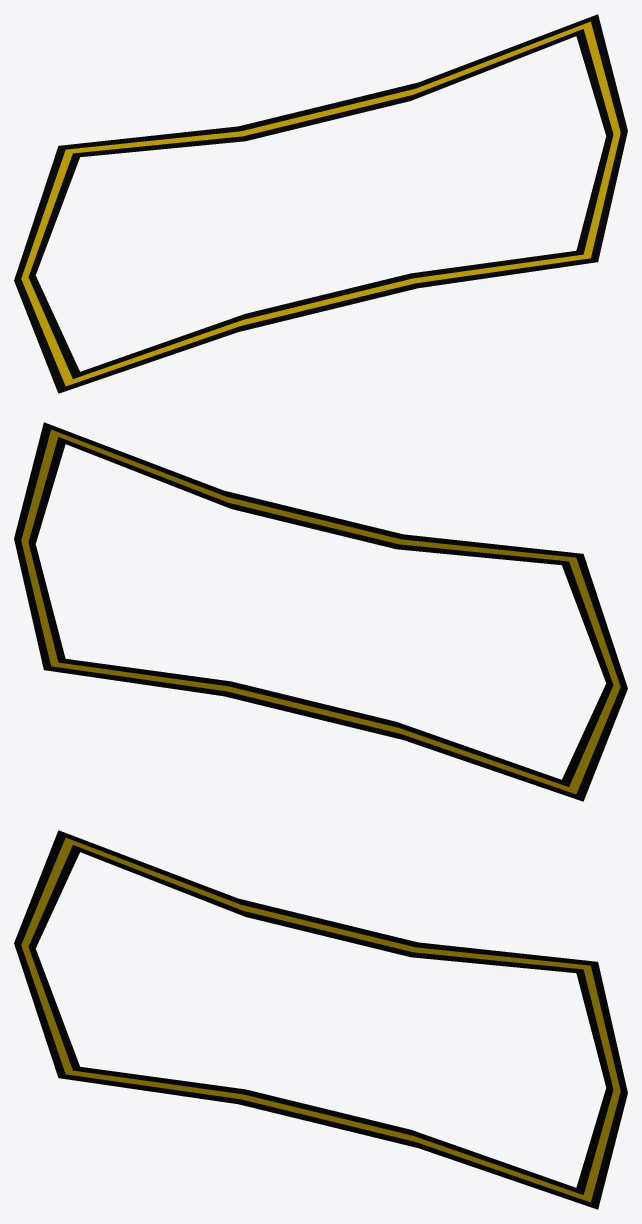
Rendered from SM_InfoMarkerBorder.fbx.
The picture shows the model from 3 angles, top to bottom: view 1: azimuth 30°, elevation 25°; view 2: azimuth 150°, elevation 25°; view 3: azimuth 330°, elevation 25°; orthographic projection.
Parts seen in each view (by area): view 1: InfoMarkerBorder; view 2: InfoMarkerBorder; view 3: InfoMarkerBorder.
Part boxes in pixels (x1,y1,x2,y2): InfoMarkerBorder: [14, 14, 627, 393]; InfoMarkerBorder: [14, 422, 627, 801]; InfoMarkerBorder: [14, 830, 627, 1209].
Bounding box in the file's own units: 335 × 129 × 8.74e-06.
